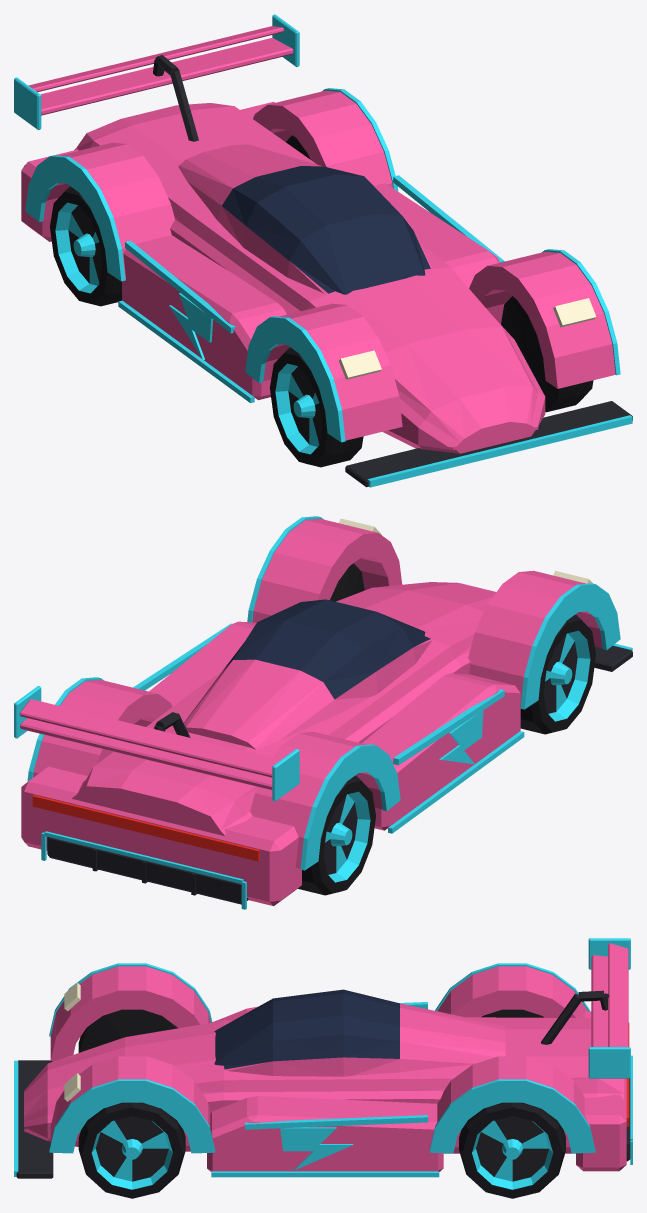
The model's file is Car_bolt.fbx.
The picture shows the model from 3 angles, top to bottom: view 1: azimuth 30°, elevation 25°; view 2: azimuth 150°, elevation 25°; view 3: azimuth 270°, elevation 25°; orthographic projection. The views are drawn at different scales.
Visible parts, largest first — view 1: Body, Wheel_FL, Wheel_RL, Wheel_FR; view 2: Body, Wheel_FL, Wheel_RL, Wheel_FR; view 3: Body, Wheel_FR, Wheel_RR, Wheel_FL, Wheel_RL.
Part boxes in pixels (box(x1,y1,x2,y2)): Body: box(14, 14, 632, 487); Wheel_FL: box(270, 347, 363, 467); Wheel_RL: box(50, 186, 121, 306); Wheel_FR: box(501, 296, 593, 412); Body: box(14, 516, 632, 909); Wheel_FL: box(520, 614, 595, 734); Wheel_RL: box(298, 775, 375, 895); Wheel_FR: box(330, 563, 364, 601); Body: box(14, 938, 632, 1178); Wheel_FR: box(78, 1102, 185, 1198); Wheel_RR: box(459, 1102, 565, 1198); Wheel_FL: box(78, 1009, 177, 1052); Wheel_RL: box(481, 1009, 543, 1017).
Size of what is drawn, in the model's own units: 1.98 by 1.2 by 4.39.
